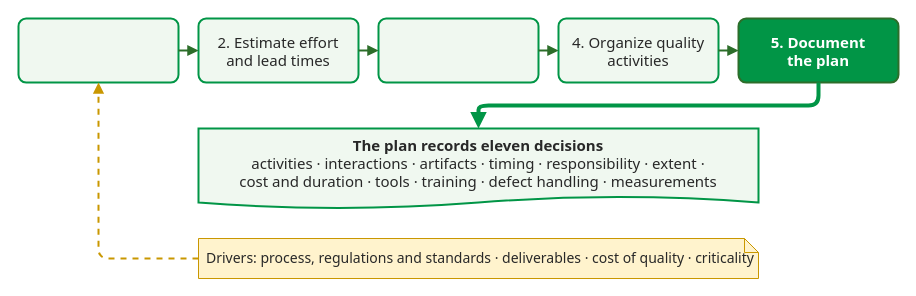
The diagram is 916 pixels wide and 296 high, and some of its shapes have lost their labels. The box of each missing label's shape, as (x1, y1, x2, y2) in pixels:
1. Determine what to do: (17, 17, 179, 83)
3. Coordinate with the development plan: (377, 17, 539, 83)
